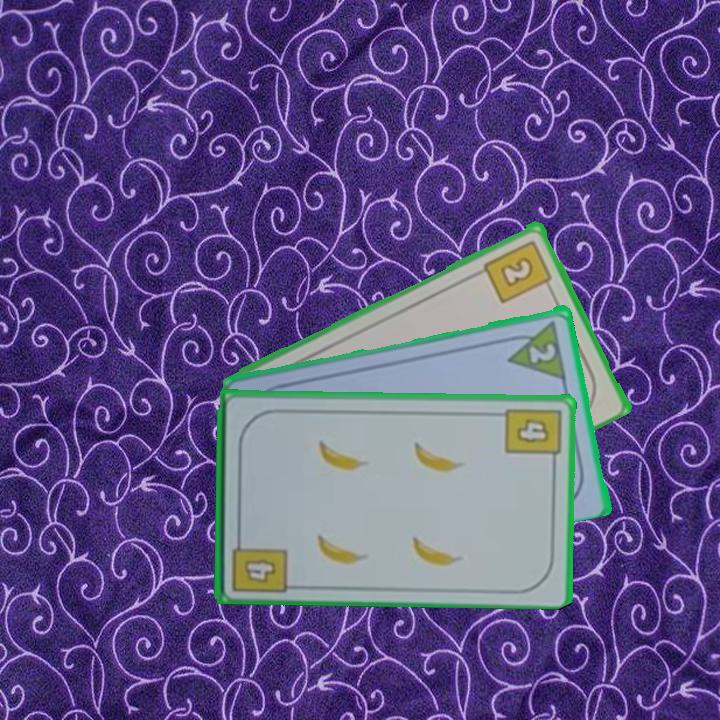2b: (480, 236, 556, 306)
2p: (501, 316, 570, 381)
4b: (228, 529, 289, 595), (502, 404, 563, 467)
